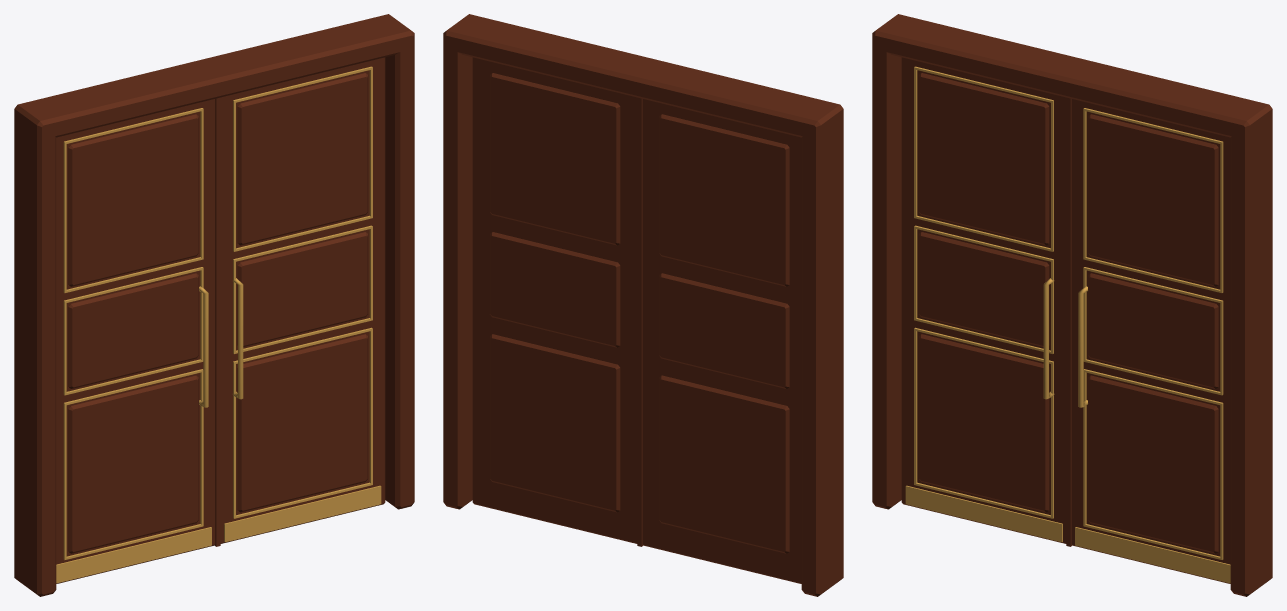
File: door_double.glb
3 views of the same model, side by side, from view 1: azimuth 30°, elevation 25°; view 2: azimuth 150°, elevation 25°; view 3: azimuth 330°, elevation 25° (orthographic).
Visible parts, largest first — view 1: DoorDouble; view 2: DoorDouble; view 3: DoorDouble.
Boxes of the visible parts, box(x1,y1,x2,y2) form: DoorDouble: box(14, 14, 414, 596); DoorDouble: box(443, 14, 843, 596); DoorDouble: box(872, 14, 1272, 596).
Bounding box in the file's own units: 3.48 × 4.19 × 0.42.
